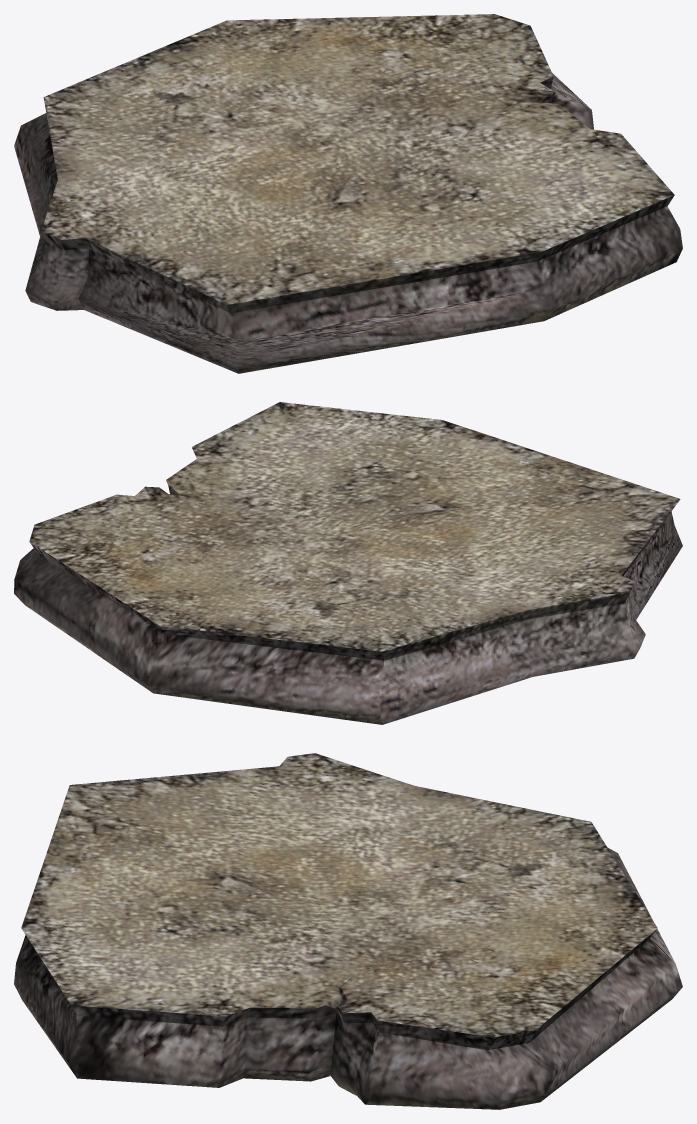
File: StreetRubble_1.fbx
3 views of the same model, one above another, from view 1: azimuth 30°, elevation 25°; view 2: azimuth 150°, elevation 25°; view 3: azimuth 270°, elevation 25° (orthographic). The views are drawn at different scales.
Parts seen in each view (by area): view 1: StreetRubble_1; view 2: StreetRubble_1; view 3: StreetRubble_1.
Boxes of the visible parts, box(x1,y1,x2,y2) form: StreetRubble_1: box(14, 14, 682, 373); StreetRubble_1: box(14, 402, 682, 724); StreetRubble_1: box(14, 753, 682, 1109).
Size of the model in its own units: 269 by 29.98 by 257.
